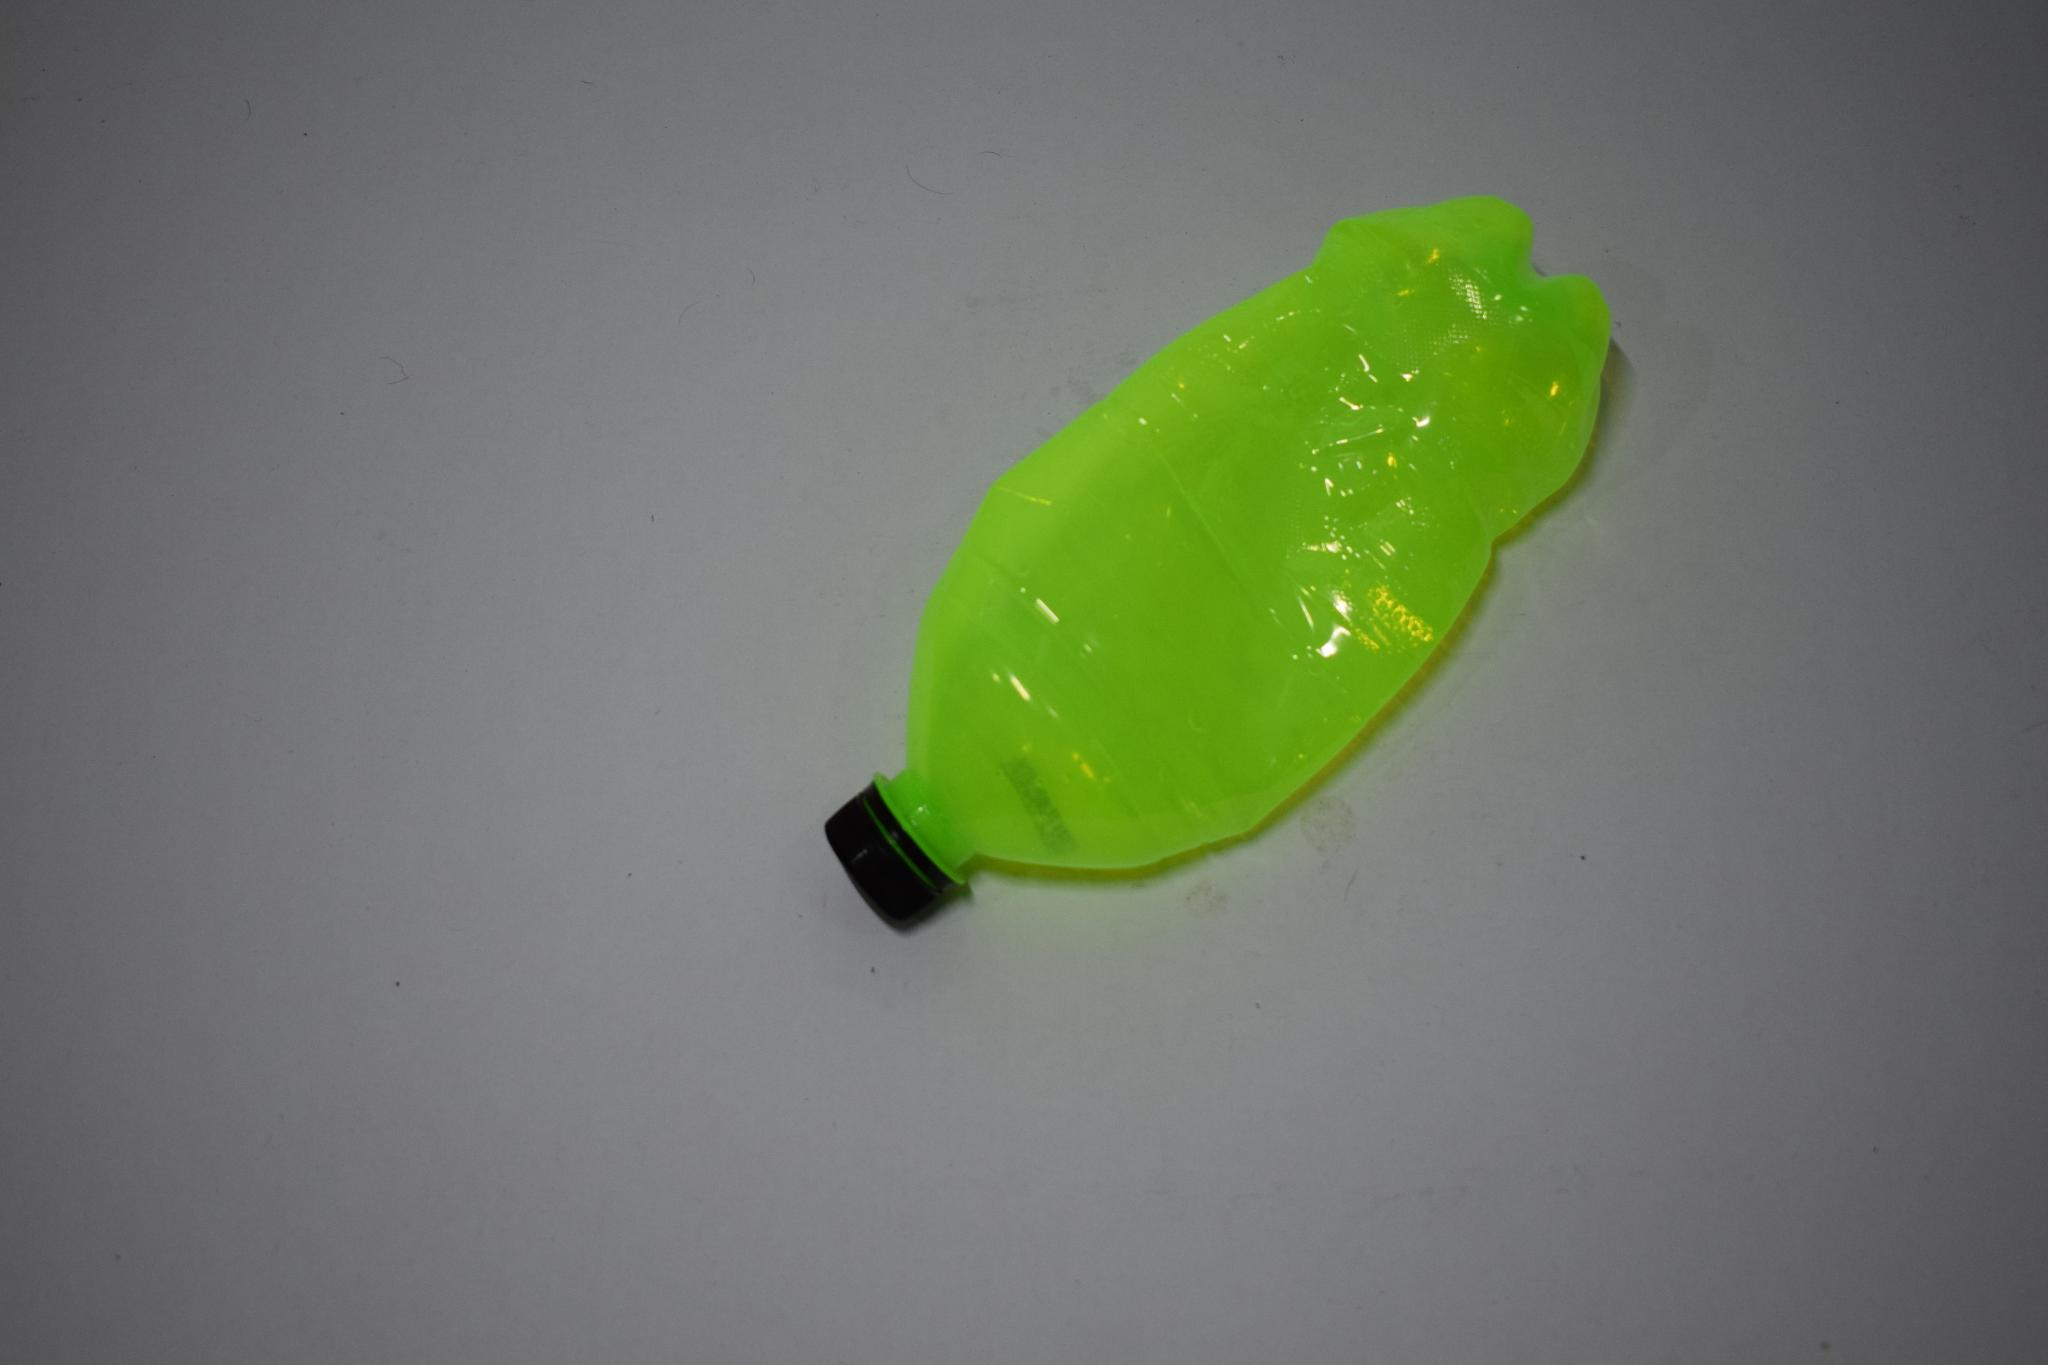bottle: (820, 185, 1618, 929)
